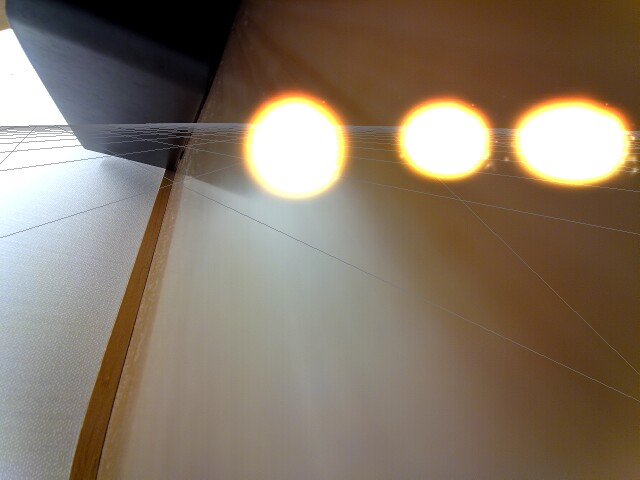fire: (245, 90, 348, 202), (512, 95, 633, 189), (399, 98, 495, 182)
